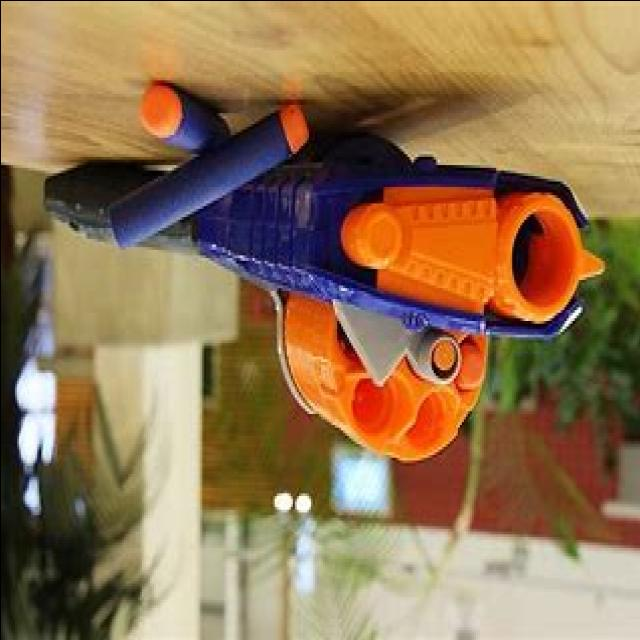nerf-maverik: (24, 68, 614, 510)
